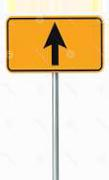forward: (7, 16, 104, 72)
